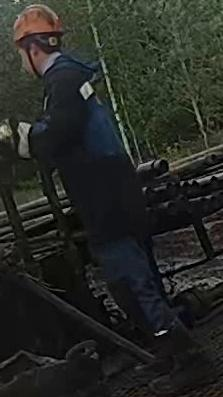helmet: (12, 4, 64, 49)
vest: (33, 54, 147, 244)
